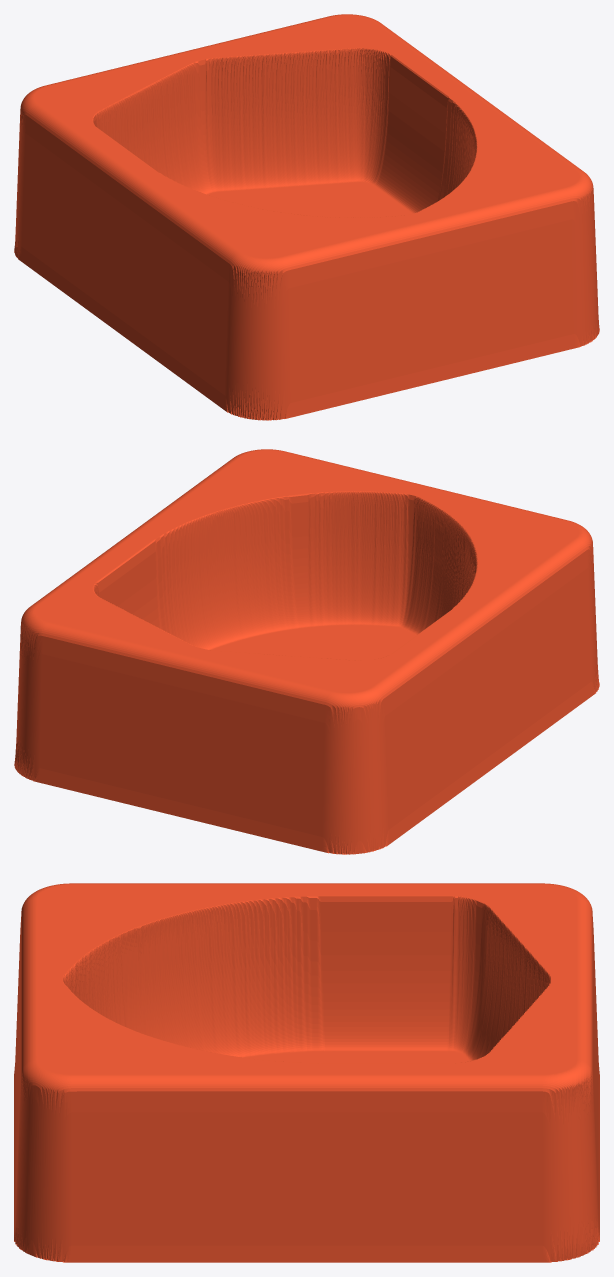
The model's file is mold.glb.
The picture shows the model from 3 angles, top to bottom: view 1: azimuth 30°, elevation 25°; view 2: azimuth 150°, elevation 25°; view 3: azimuth 270°, elevation 25°; orthographic projection. The views are drawn at different scales.
Visible parts, largest first — view 1: geometry_0; view 2: geometry_0; view 3: geometry_0.
Boxes of the visible parts, x1,y1,x2,y2 form: geometry_0: (14,14,599,420); geometry_0: (14,449,599,854); geometry_0: (14,883,599,1262).
Bounding box in the file's own units: 0.078 × 0.031 × 0.0924.
